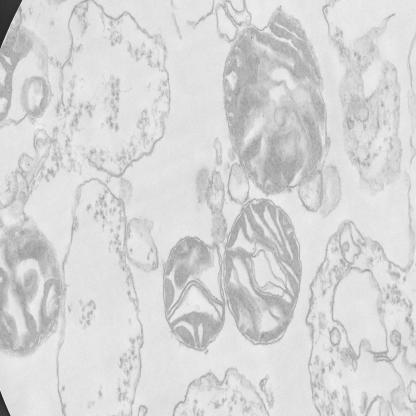mitochondria: (219, 3, 329, 199), (222, 196, 305, 348), (156, 233, 230, 358), (0, 223, 67, 358)
